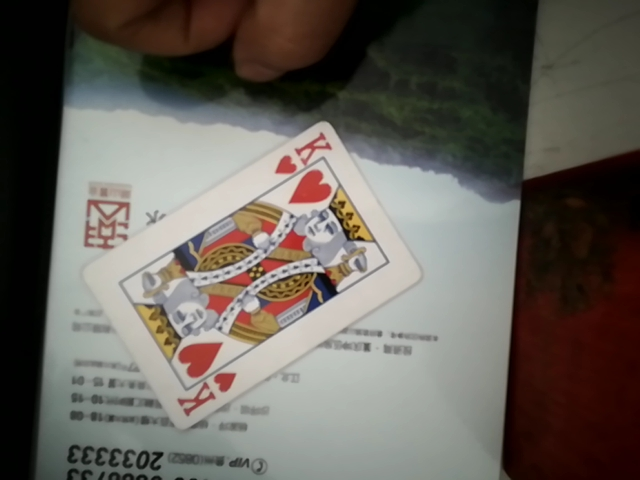hx k: (80, 109, 421, 429)
